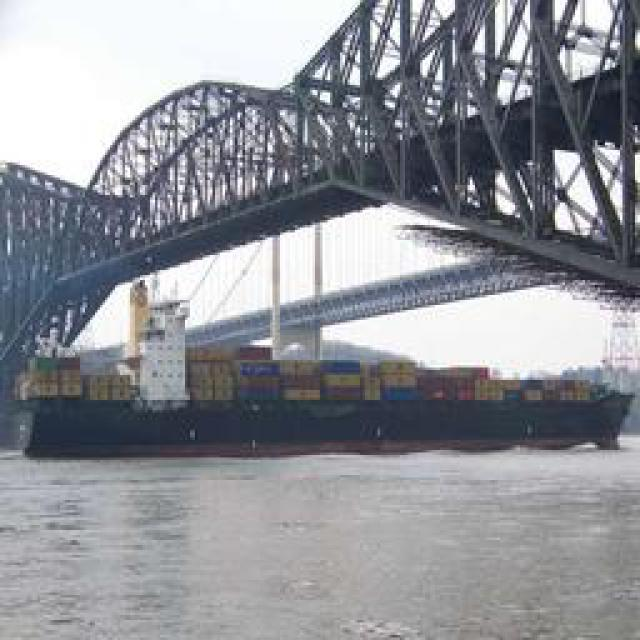Ship: (11, 362, 624, 452)
